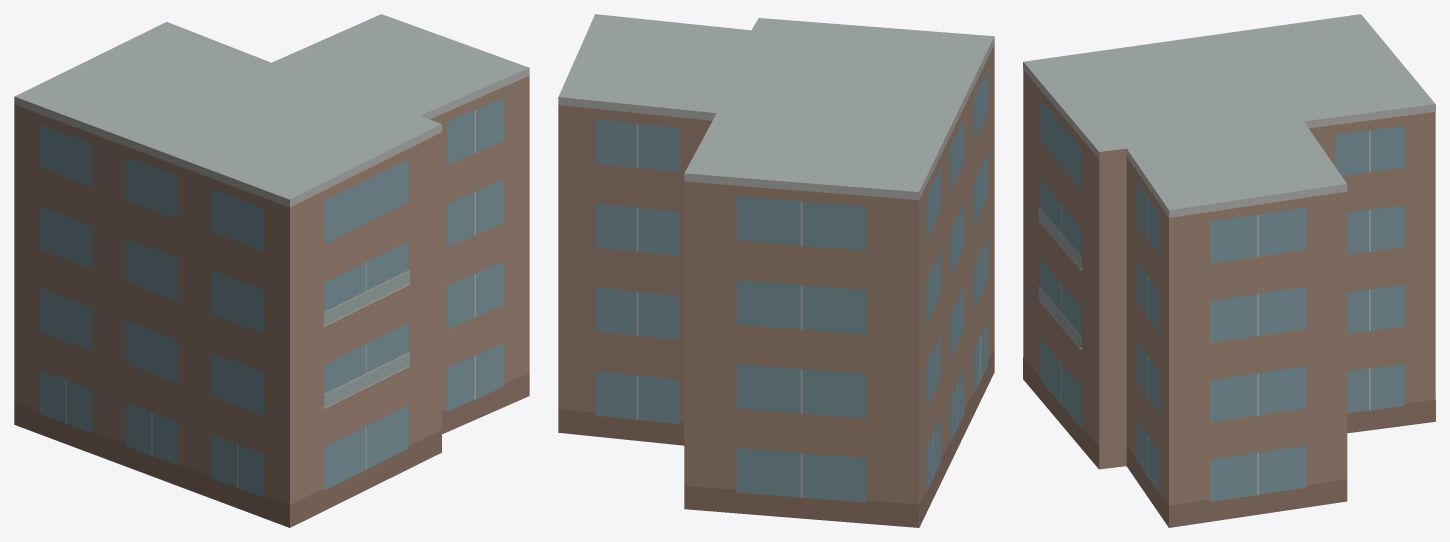
File: survey-upis-32863592.glb
3 views of the same model, side by side, from view 1: azimuth 30°, elevation 25°; view 2: azimuth 150°, elevation 25°; view 3: azimuth 270°, elevation 25° (orthographic). The views are drawn at different scales.
Parts seen in each view (by area): view 1: survey-upis-32863592.tmp; view 2: survey-upis-32863592.tmp; view 3: survey-upis-32863592.tmp.
Boxes of the visible parts, x1,y1,x2,y2 form: survey-upis-32863592.tmp: (14,14,529,527); survey-upis-32863592.tmp: (558,14,994,527); survey-upis-32863592.tmp: (1023,14,1435,527).
Size of the model in its own units: 13.54 by 10.2 by 12.03.
